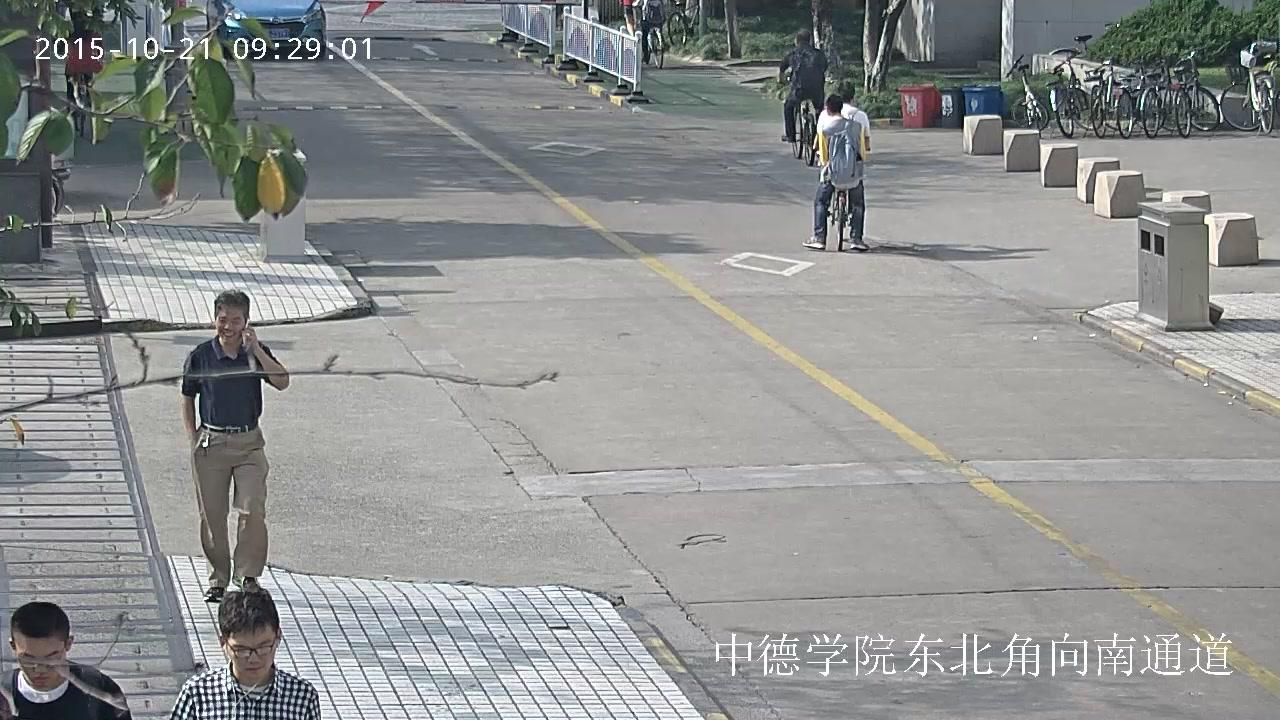face: (227, 623, 275, 677), (17, 636, 65, 686), (216, 307, 243, 343)
